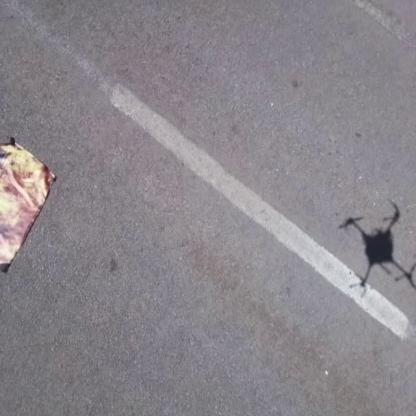fire-poster: (0, 134, 57, 275)
